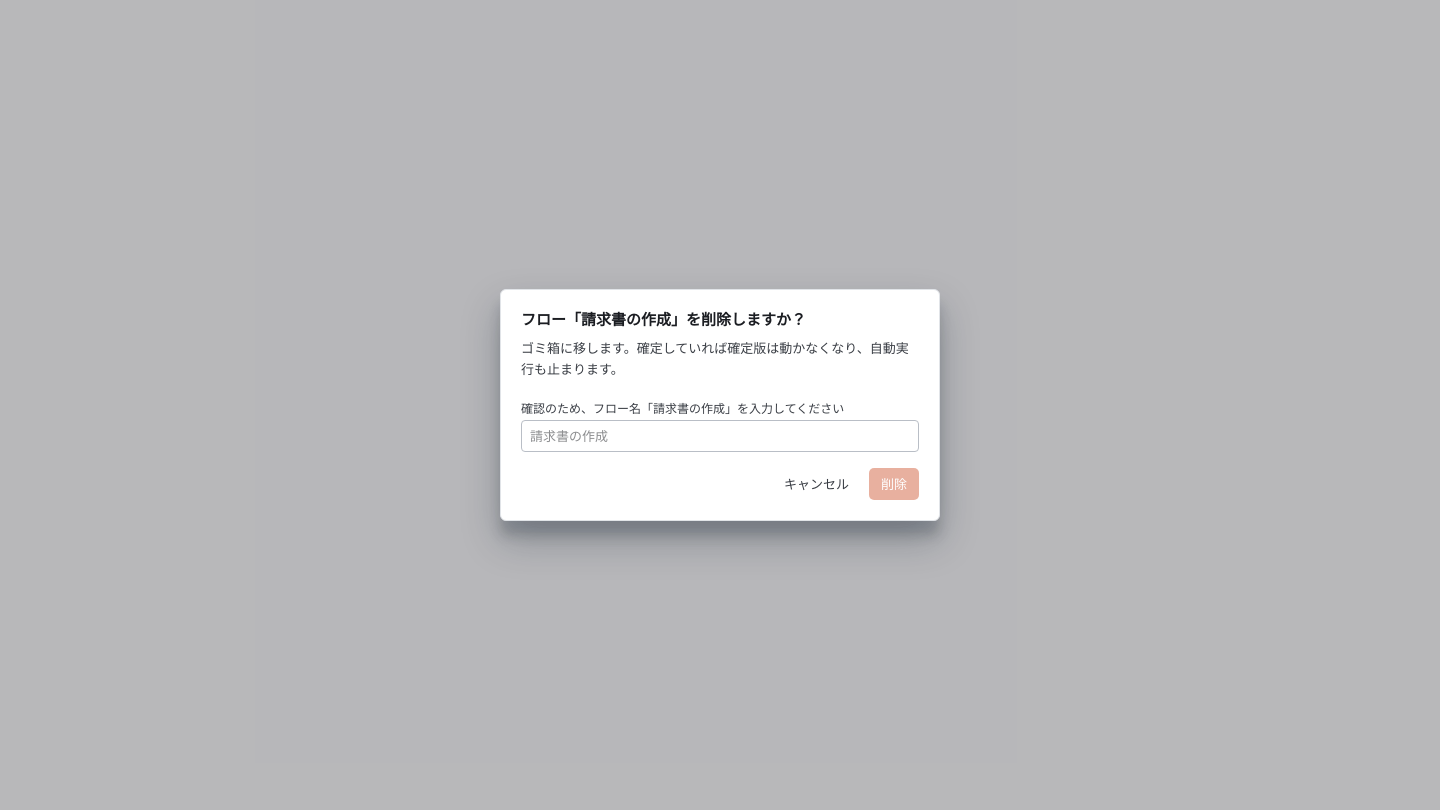
AskDialog › deletes a flow only once its name is typed
Later steps or results of the test are not shown.
Check: the button "削除" is disabled, box [869,468,919,500]
Step 1. Type "請求書の" into the field → (720, 436), box [521,420,919,452]
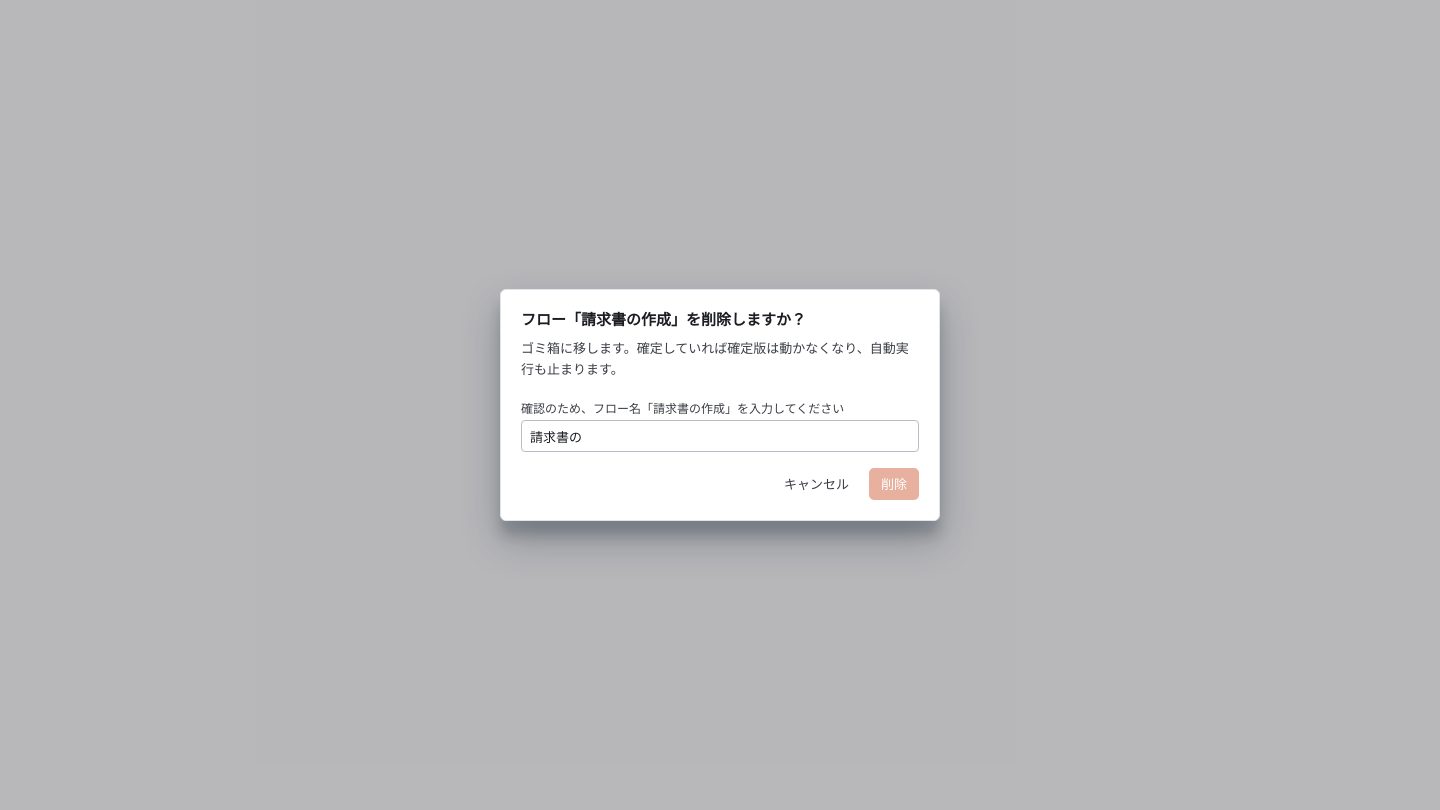
Step 2. Submit the form, box [521,396,919,500]
Check: the dialog is shown, box [500,289,940,522]
Step 3. Replace the text in the field with "請求書の作成" → (720, 436), box [521,420,919,452]
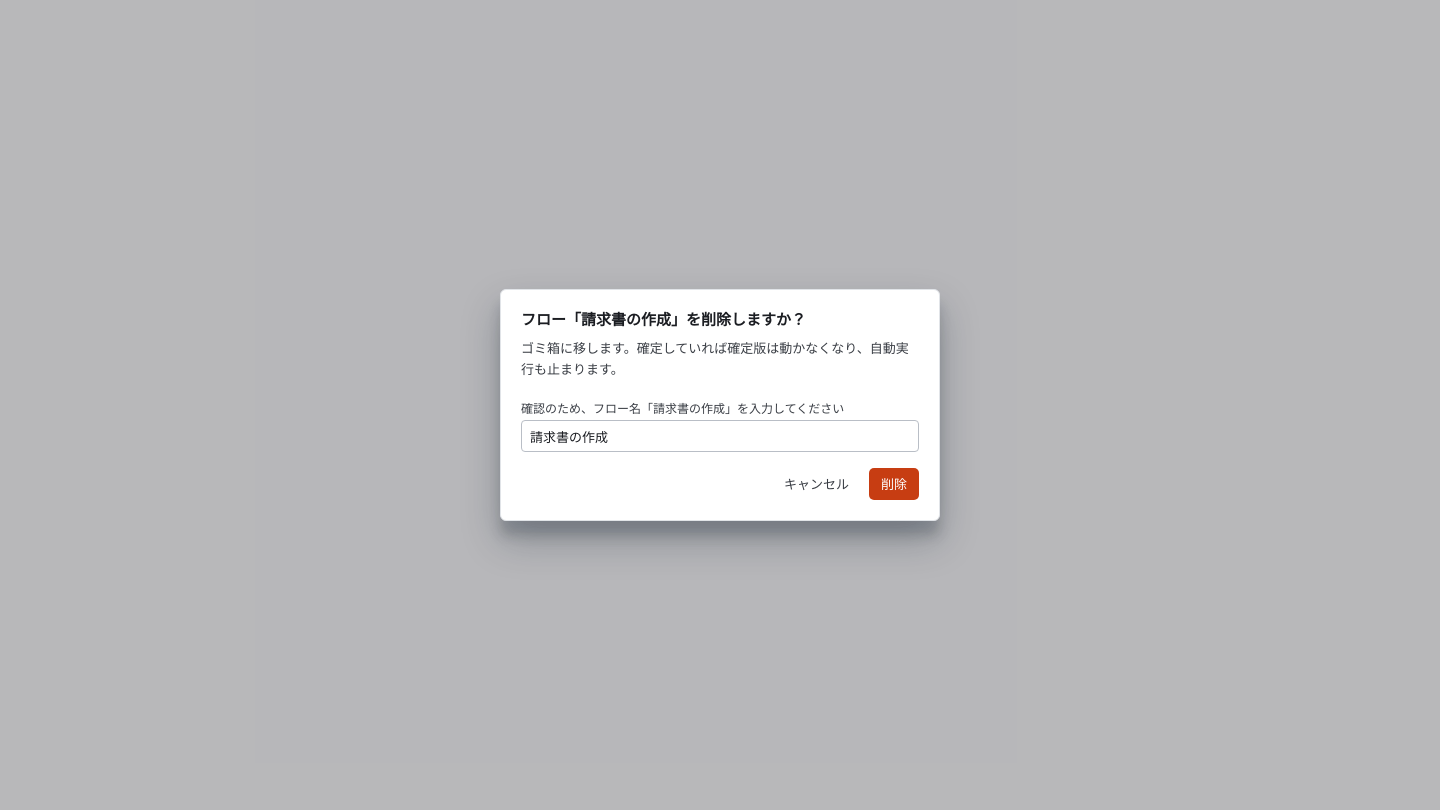
Check: the button "削除" is enabled, box [869,468,919,500]
